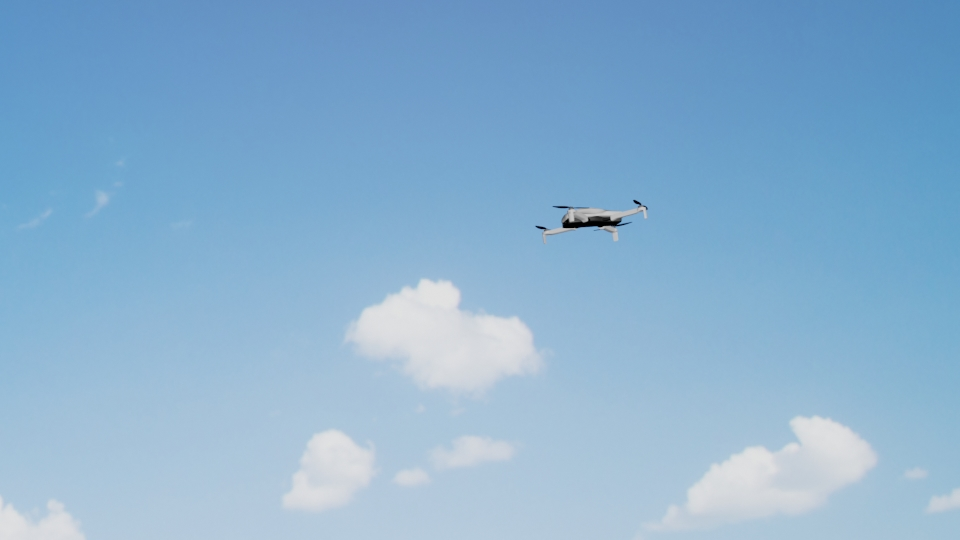drone: (537, 197, 645, 243)
